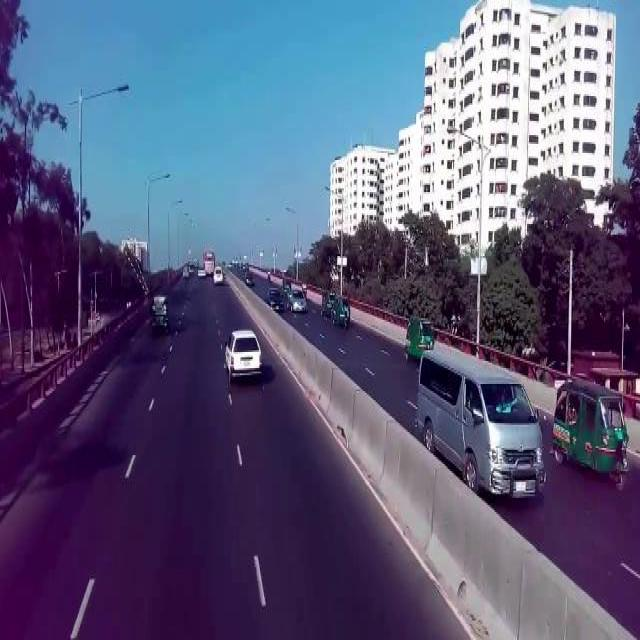car: (220, 326, 264, 385), (264, 284, 286, 313), (286, 287, 308, 314)
three wheelers -CNG-: (548, 373, 630, 495), (402, 311, 436, 368), (148, 292, 170, 334), (331, 292, 352, 330), (319, 288, 335, 316)
van: (412, 341, 548, 505)
